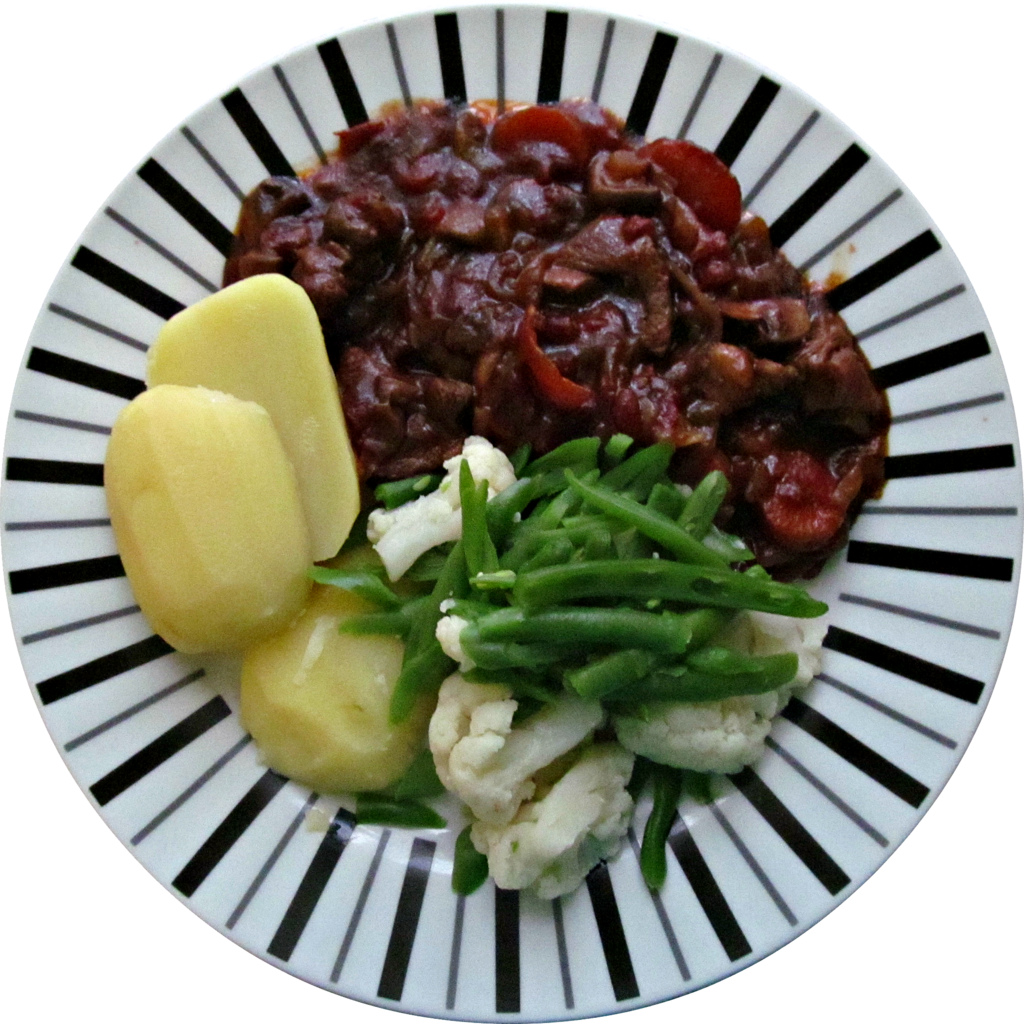boiled peas: (423, 459, 760, 688)
boiled potatoes: (150, 313, 370, 536), (105, 406, 304, 623), (248, 555, 416, 784)
